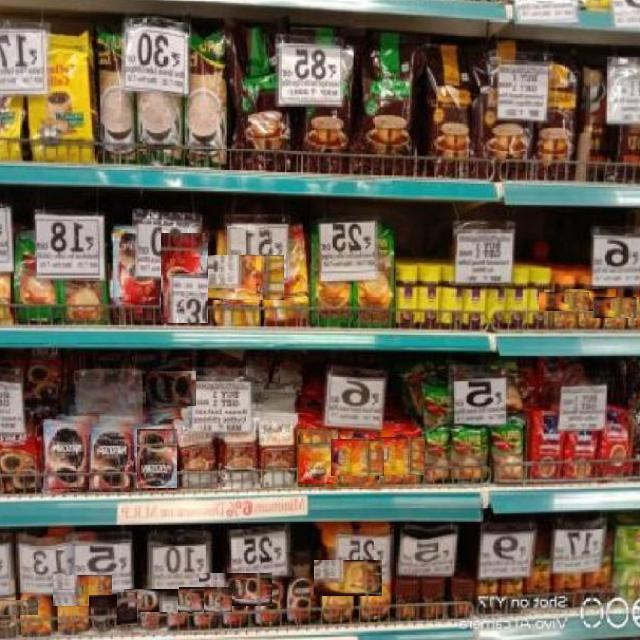Coffee: (113, 227, 158, 325), (160, 232, 208, 323), (190, 255, 284, 300), (264, 227, 307, 323), (291, 560, 382, 596), (359, 528, 393, 622), (44, 424, 88, 494), (21, 552, 53, 637), (90, 429, 132, 491), (33, 575, 112, 606), (200, 572, 272, 606), (136, 429, 177, 488), (297, 429, 338, 484), (254, 554, 286, 624), (371, 436, 425, 475), (331, 438, 384, 476), (286, 553, 314, 623), (147, 370, 196, 406), (149, 588, 204, 612), (180, 587, 232, 612), (124, 589, 178, 612), (563, 289, 616, 311), (539, 292, 589, 311), (594, 297, 637, 318), (90, 595, 113, 630), (116, 591, 137, 625), (0, 600, 38, 615), (610, 297, 640, 306)
